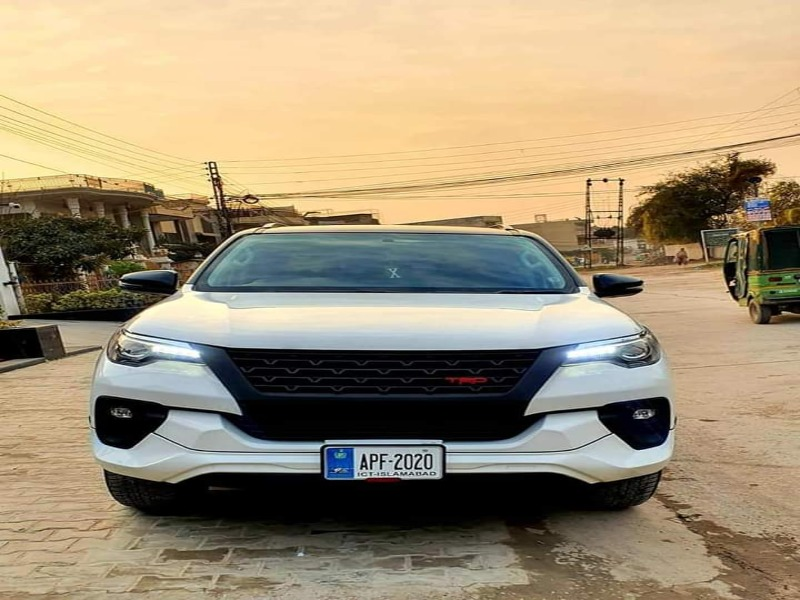License Plate: (316, 437, 451, 487)
